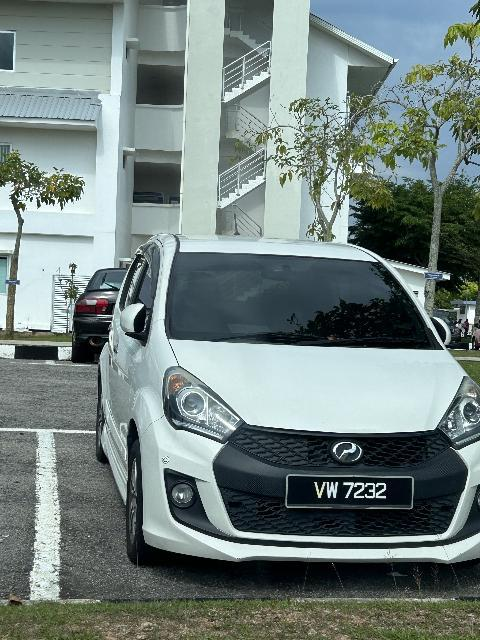License_Plate: (282, 470, 422, 516)
VW7232: (282, 470, 422, 516)
